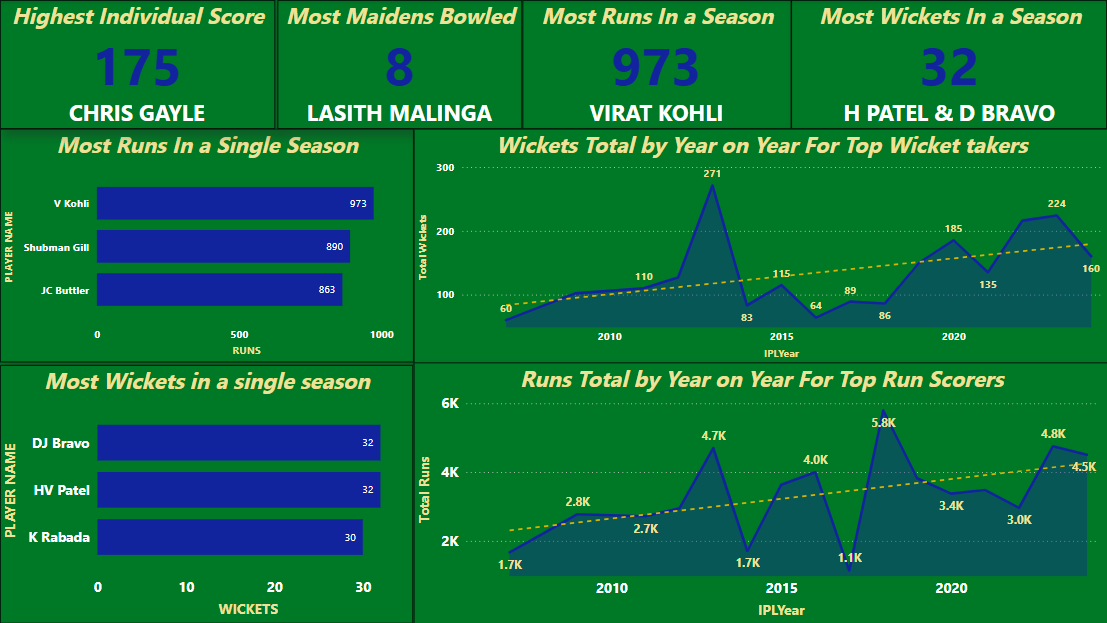

The page's visual inventory and layout, read from the dashboard file:
{"tool":"powerbi","page":{"name":"Page 1","canvas":[1280,720],"ordinal":0},"visuals":[{"type":"clusteredBarChart","title":"Most Runs In a Single Season","fields":{"Category":["IPLBAT.PlayerName"],"Y":["IPLBAT.MaxRunsInSingleSeason"]},"box":[0,148.6,477.6,269.8],"z":0},{"type":"clusteredBarChart","title":"Most Wickets in a single season","fields":{"Category":["IPLBOWL.PlayerName"],"Y":["IPLBOWL.MaxWicketsInASeason"]},"box":[0,421.4,476.8,298.2],"z":1000},{"type":"card","title":"Highest Individual Score","fields":{"Values":["HighestScore.TopScore"]},"box":[0,0,317.3,149.1],"z":2000},{"type":"card","title":"Most Maidens Bowled","fields":{"Values":["MostMaidensBowled.TotalMaidens"]},"box":[320.8,0,282.6,149.1],"z":3000},{"type":"card","title":"Most Runs In a Season","fields":{"Values":["MostRunsInASeason.TopTotal"]},"box":[603.4,0,310.4,149.1],"z":4000},{"type":"card","title":"Most Wickets In a Season","fields":{"Values":["MostWicketsInASeason.TopWickets"]},"box":[913.8,0,365.9,149.1],"z":5000},{"type":"lineChart","title":"Wickets Total by Year on Year For Top Wicket takers","fields":{"Category":["IPLYearBowl.IPLYear"],"Y":["TotalWicksPerYear.TotalWicks"]},"box":[477.6,148.6,802.2,272.7],"z":6000},{"type":"lineChart","title":"Runs Total by Year on Year For Top Run Scorers","fields":{"Category":["IPLYearBat.IPLYear"],"Y":["TotalRunsPerYear.TotalOfRuns"]},"box":[477.6,418.4,802.2,301.5],"z":7000}]}

Visuals, with their boxes in screenshot pixels (x1, y1, x2, y2), scaled from the page's 1280x720 canvas onto the 1107x623 screenshot:
"Most Runs In a Single Season" clusteredBarChart: l=0, t=129, r=413, b=362
"Most Wickets in a single season" clusteredBarChart: l=0, t=365, r=412, b=622
"Highest Individual Score" card: l=0, t=0, r=274, b=129
"Most Maidens Bowled" card: l=277, t=0, r=522, b=129
"Most Runs In a Season" card: l=522, t=0, r=790, b=129
"Most Wickets In a Season" card: l=790, t=0, r=1106, b=129
"Wickets Total by Year on Year For Top Wicket takers" lineChart: l=413, t=129, r=1106, b=365
"Runs Total by Year on Year For Top Run Scorers" lineChart: l=413, t=362, r=1106, b=622
